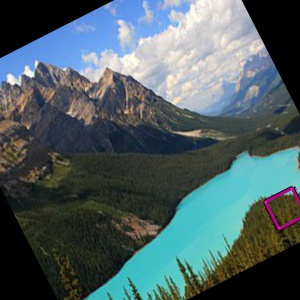square: (260, 183, 300, 234)
